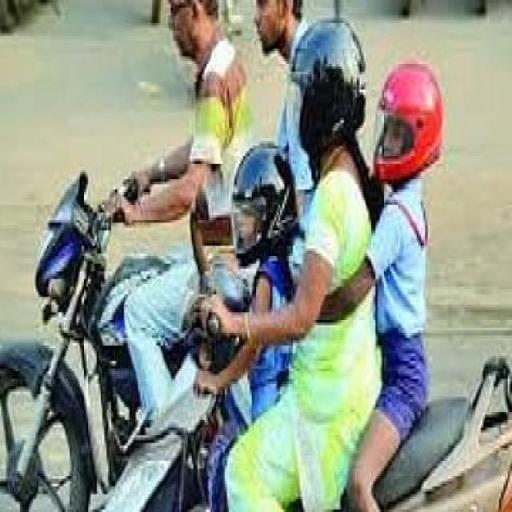Helmet: (292, 20, 365, 182), (374, 63, 443, 182), (232, 144, 297, 266)
Motor: (8, 185, 510, 512)
